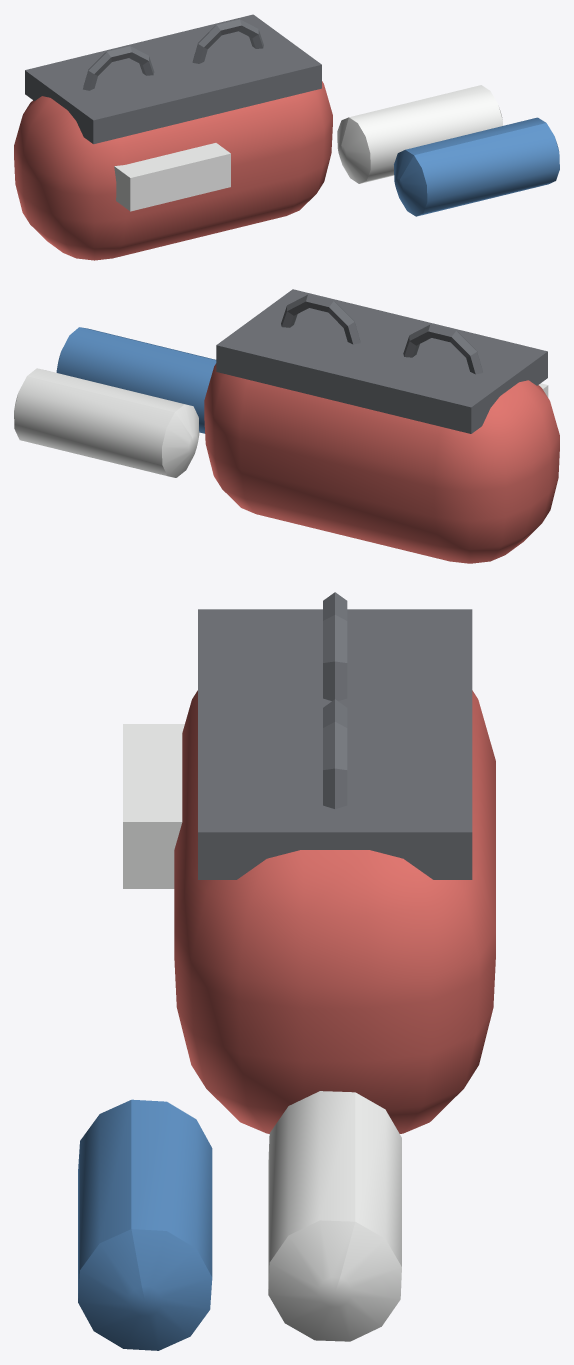
The model's file is community-sports-hall-and-changing-rooms-kit-bag-and-t-d216f863__35115.glb.
The picture shows the model from 3 angles, top to bottom: view 1: azimuth 30°, elevation 25°; view 2: azimuth 150°, elevation 25°; view 3: azimuth 270°, elevation 25°; orthographic projection. The views are drawn at different scales.
Parts seen in each view (by area): view 1: kit-bag-and-towels; view 2: kit-bag-and-towels; view 3: kit-bag-and-towels.
Part boxes in pixels (x1=…): kit-bag-and-towels: x1=14, y1=14, x2=559, y2=260; kit-bag-and-towels: x1=14, y1=289, x2=559, y2=563; kit-bag-and-towels: x1=78, y1=592, x2=495, y2=1350.
Bounding box in the file's own units: 1.04 × 0.398 × 0.3962.
